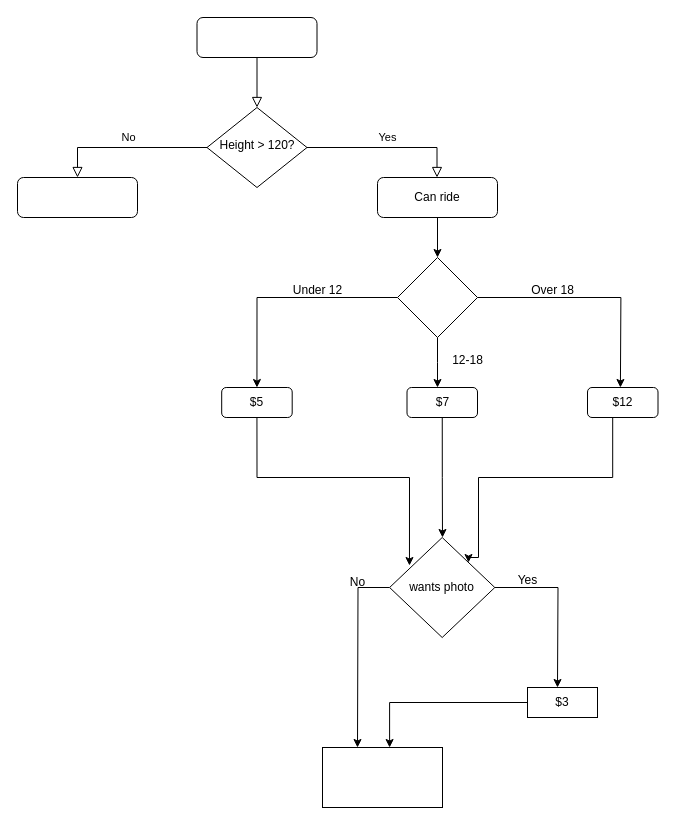
Some shapes in this 676 by 825 pixel diagram are drawn without their labels. The box of each missing label's shape, as (x1, y1, x2, y2) in pixels:
age: (396, 256, 478, 338)
Can't ride: (16, 176, 138, 218)
Start: (196, 16, 317, 58)
Total bill is $X: (322, 746, 442, 808)
